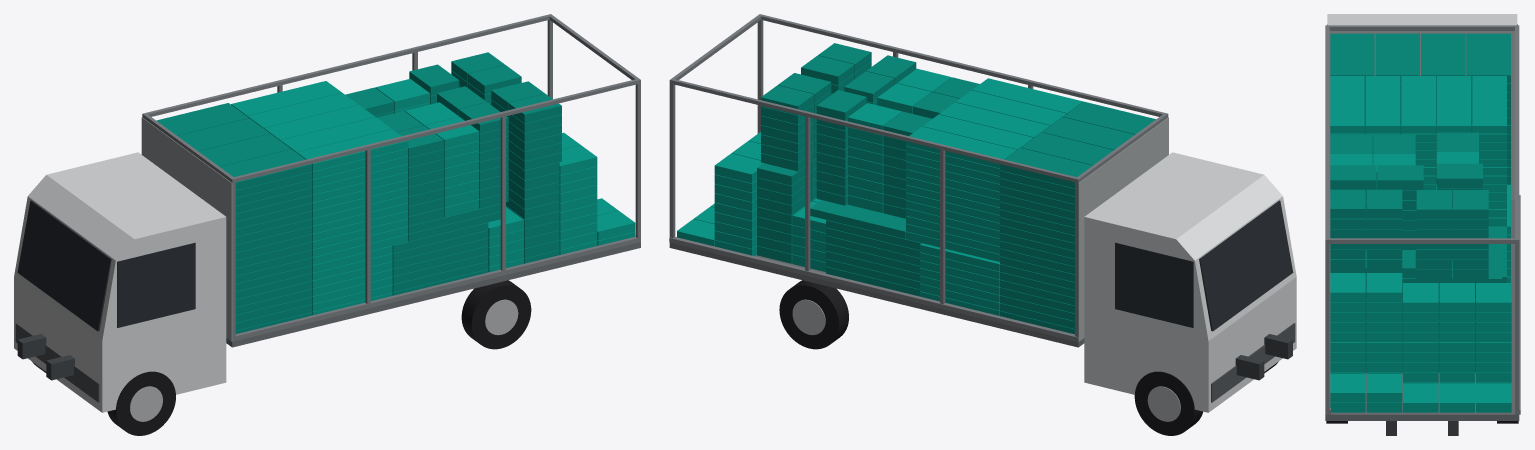
Rendered from caminhao-SP12.glb.
The picture shows the model from 3 angles, left to right: view 1: azimuth 30°, elevation 25°; view 2: azimuth 150°, elevation 25°; view 3: azimuth 270°, elevation 25°; orthographic projection. The views are drawn at different scales.
Visible parts, largest first — view 1: cabine, part21, janela, frente, part13, part27, piso, part12, part14, part23, part199, part107 (+75 smaller); view 2: cabine, part21, janela, frente, part15, part29, piso, part14, part12, part25, part243, part203 (+77 smaller); view 3: piso, cabine, part200, part202, part199, part201, part203, part110, part107, part108, part109, frente (+100 smaller).
Part boxes in pixels (x1,y1,x2,y2): cabine: [14, 152, 226, 412]; part21: [17, 200, 111, 331]; janela: [117, 242, 195, 327]; frente: [141, 117, 232, 341]; part13: [233, 236, 640, 340]; part27: [461, 280, 531, 349]; piso: [226, 242, 640, 347]; part12: [230, 78, 640, 182]; part14: [142, 14, 552, 118]; part23: [107, 371, 175, 435]; part199: [297, 129, 408, 171]; part107: [219, 149, 312, 190]; cabine: [1084, 152, 1296, 412]; part21: [1199, 200, 1293, 331]; janela: [1115, 242, 1193, 327]; frente: [1078, 117, 1168, 341]; part15: [669, 237, 1078, 341]; part29: [779, 280, 848, 349]; piso: [669, 237, 1084, 347]; part14: [669, 78, 1080, 182]; part12: [758, 14, 1168, 118]; part25: [1134, 371, 1202, 435]; part243: [810, 200, 905, 238]; part203: [906, 126, 1017, 168]; piso: [1325, 200, 1519, 420]; cabine: [1327, 14, 1517, 25]; part200: [1365, 76, 1400, 133]; part202: [1436, 76, 1471, 132]; part199: [1330, 76, 1364, 133]; part201: [1401, 76, 1435, 133]; part203: [1472, 76, 1506, 133]; part110: [1466, 33, 1510, 83]; part107: [1330, 33, 1374, 83]; part108: [1375, 33, 1419, 83]; part109: [1421, 33, 1465, 83]; frente: [1329, 31, 1514, 199].
Size of the model in its own units: 9.04 by 3.61 by 2.53.
